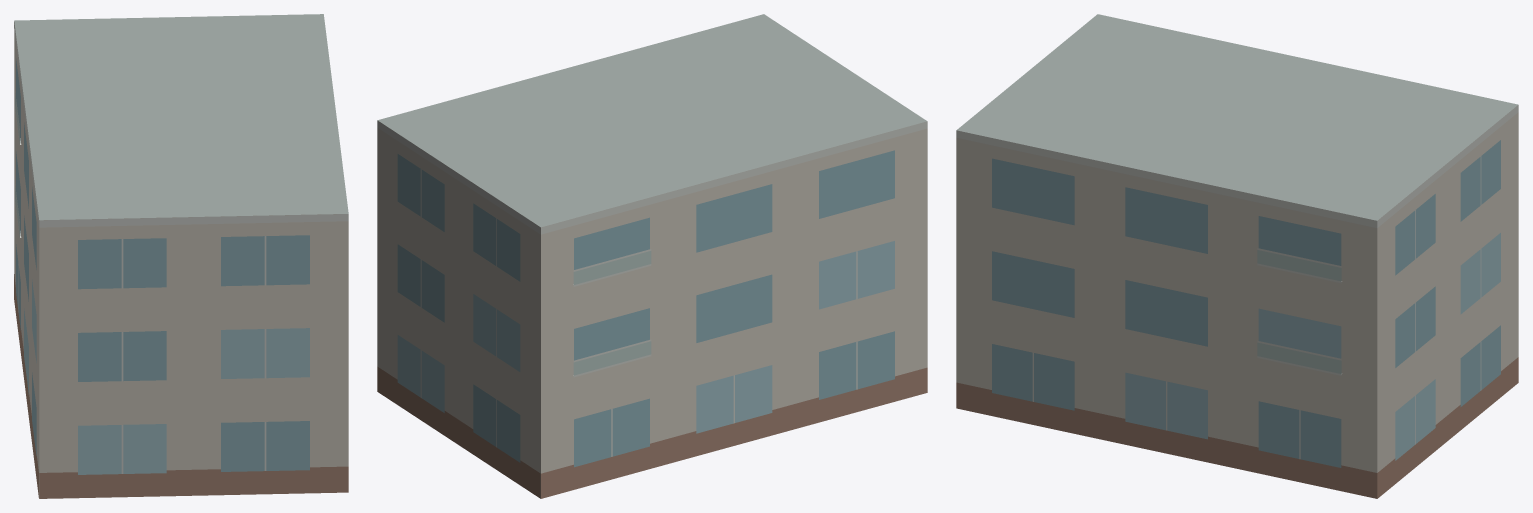
The model's file is survey-upis-33044011.glb.
The picture shows the model from 3 angles, left to right: view 1: azimuth 30°, elevation 25°; view 2: azimuth 150°, elevation 25°; view 3: azimuth 270°, elevation 25°; orthographic projection. The views are drawn at different scales.
Parts seen in each view (by area): view 1: survey-upis-33044011.tmp; view 2: survey-upis-33044011.tmp; view 3: survey-upis-33044011.tmp.
Part boxes in pixels (left/top/right/bottom): survey-upis-33044011.tmp: left=14, top=14, right=348, bottom=498; survey-upis-33044011.tmp: left=377, top=14, right=927, bottom=498; survey-upis-33044011.tmp: left=956, top=14, right=1518, bottom=498.
Bounding box in the file's own units: 14.6 × 9.15 × 16.78.
